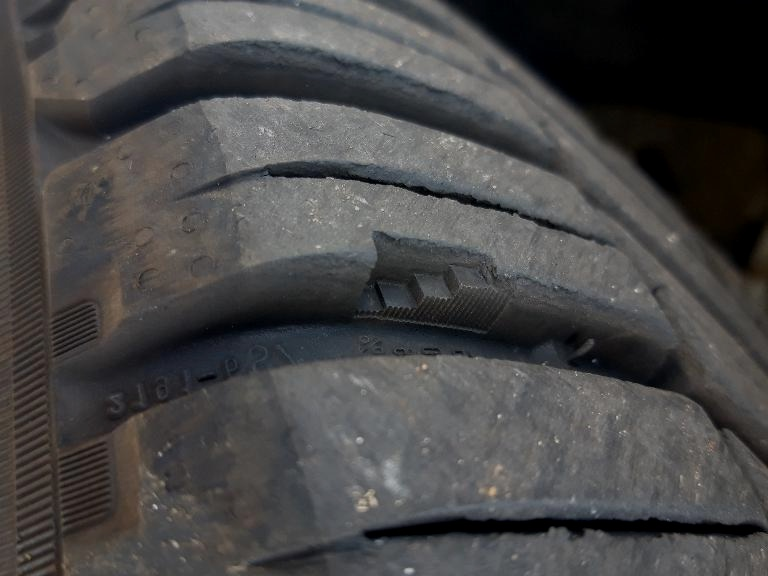temoin:90: (332, 224, 525, 343)
